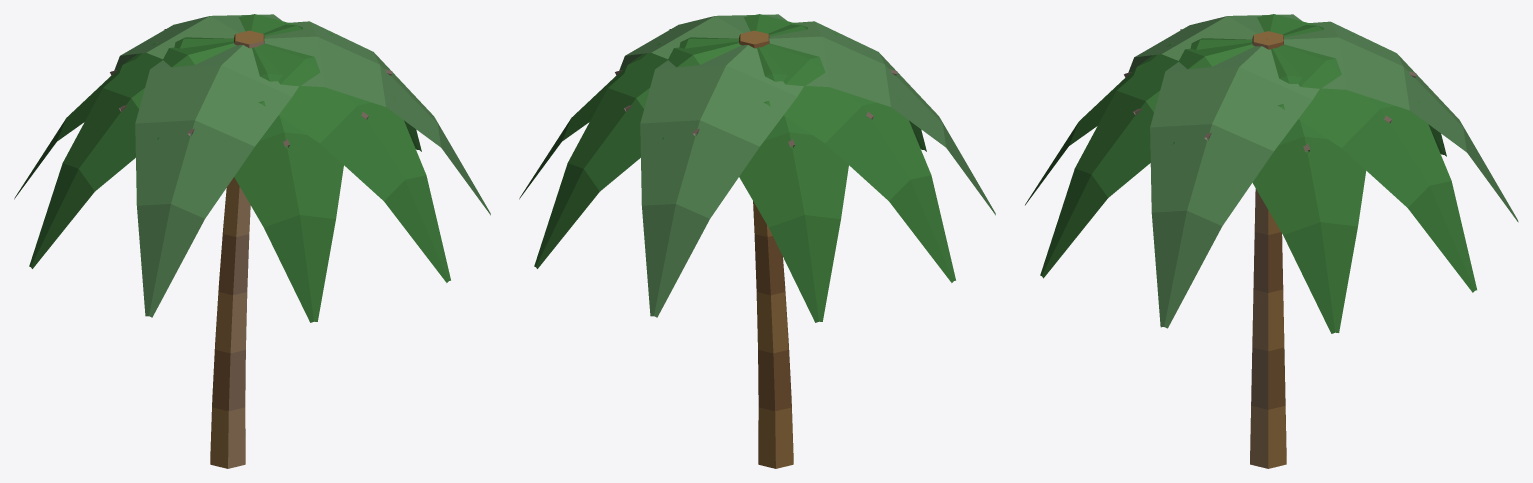
File: palm_fan_mid.glb
3 views of the same model, side by side, from view 1: azimuth 30°, elevation 25°; view 2: azimuth 150°, elevation 25°; view 3: azimuth 270°, elevation 25° (orthographic). The views are drawn at different scales.
Visible parts, largest first — view 1: palm_fan_mid; view 2: palm_fan_mid; view 3: palm_fan_mid.
Part boxes in pixels (x1=…): palm_fan_mid: x1=14, y1=14, x2=490, y2=468; palm_fan_mid: x1=519, y1=14, x2=995, y2=468; palm_fan_mid: x1=1025, y1=14, x2=1518, y2=468.
Size of the model in its own units: 4.9 by 4.75 by 4.91.
